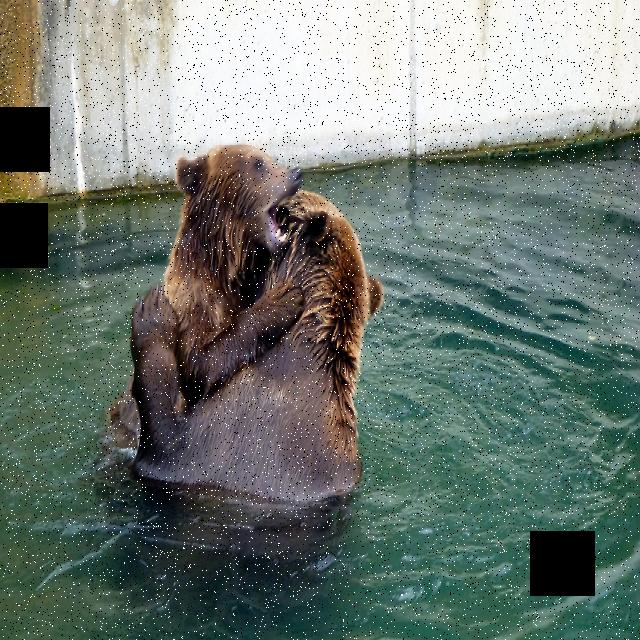Bear: (191, 148, 392, 543), (113, 127, 302, 459)
